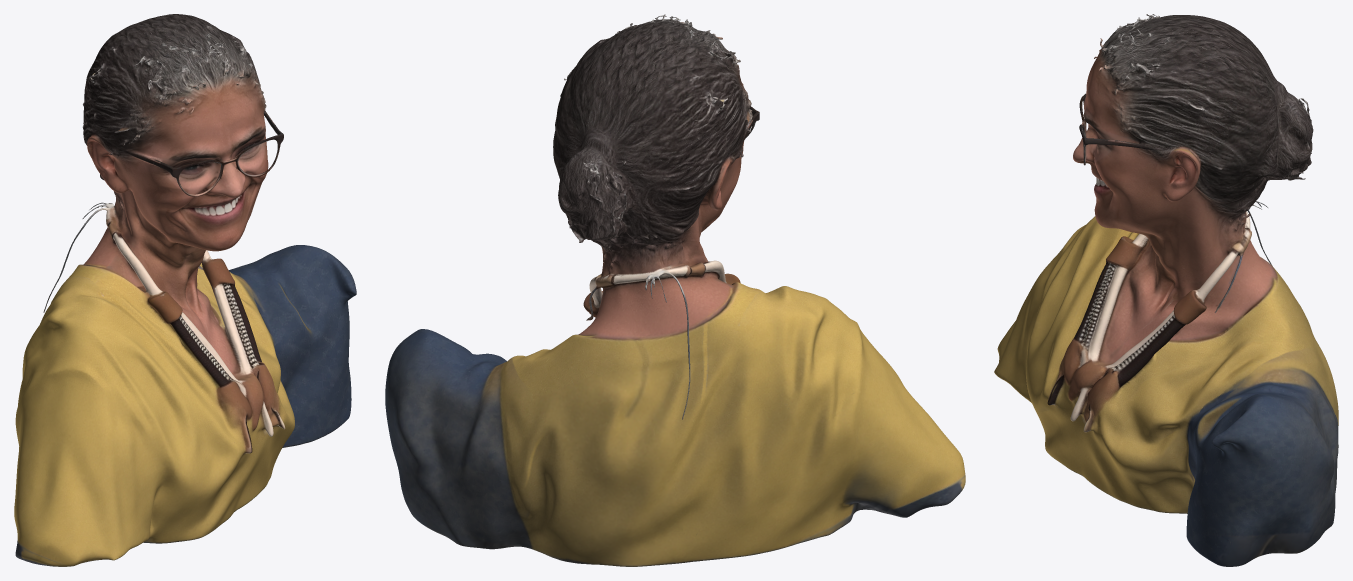
The model's file is Meshy_AI_Smiling_Woman_in_Glas_1025151850_texture.glb.
The picture shows the model from 3 angles, left to right: view 1: azimuth 30°, elevation 25°; view 2: azimuth 150°, elevation 25°; view 3: azimuth 270°, elevation 25°; orthographic projection. The views are drawn at different scales.
Size of the model in its own units: 1.85 by 1.86 by 1.29.
Materials: 1 (1 with a texture image).
